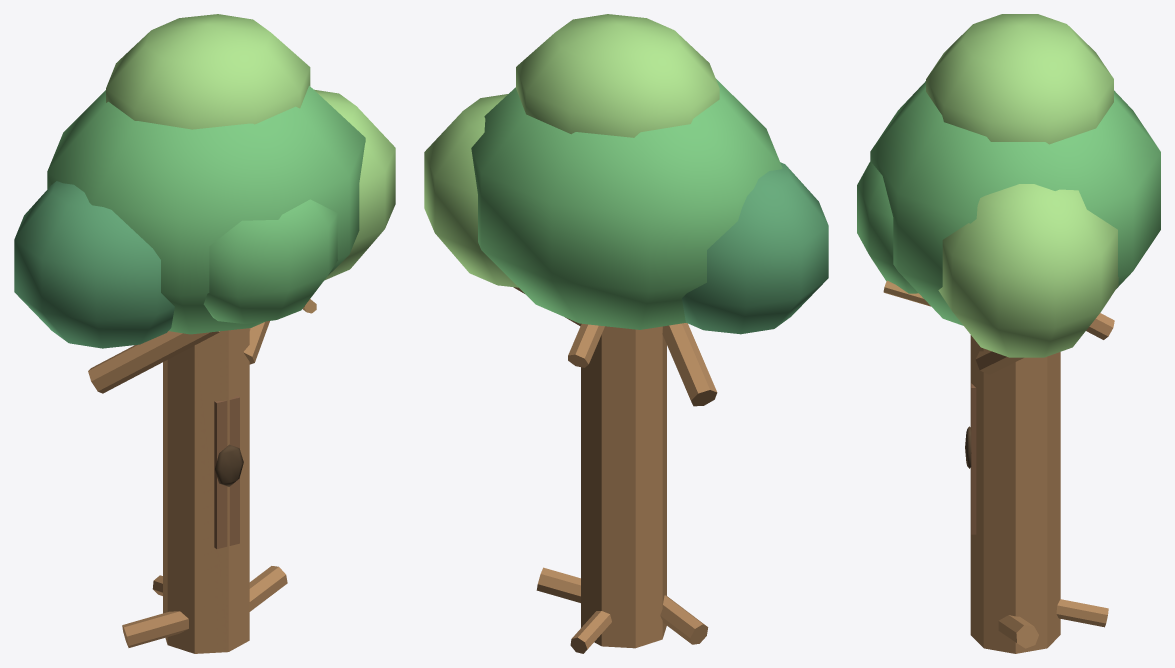
The model's file is sokpop_tree.glb.
The picture shows the model from 3 angles, left to right: view 1: azimuth 30°, elevation 25°; view 2: azimuth 150°, elevation 25°; view 3: azimuth 270°, elevation 25°; orthographic projection.
Visible parts, largest first — view 1: sokpop_tree_root; view 2: sokpop_tree_root; view 3: sokpop_tree_root.
Part boxes in pixels (bbox=[...]): sokpop_tree_root: bbox=[14, 14, 395, 653]; sokpop_tree_root: bbox=[424, 14, 828, 653]; sokpop_tree_root: bbox=[857, 14, 1160, 653].
Bounding box in the file's own units: 3.14 × 5 × 2.25.
